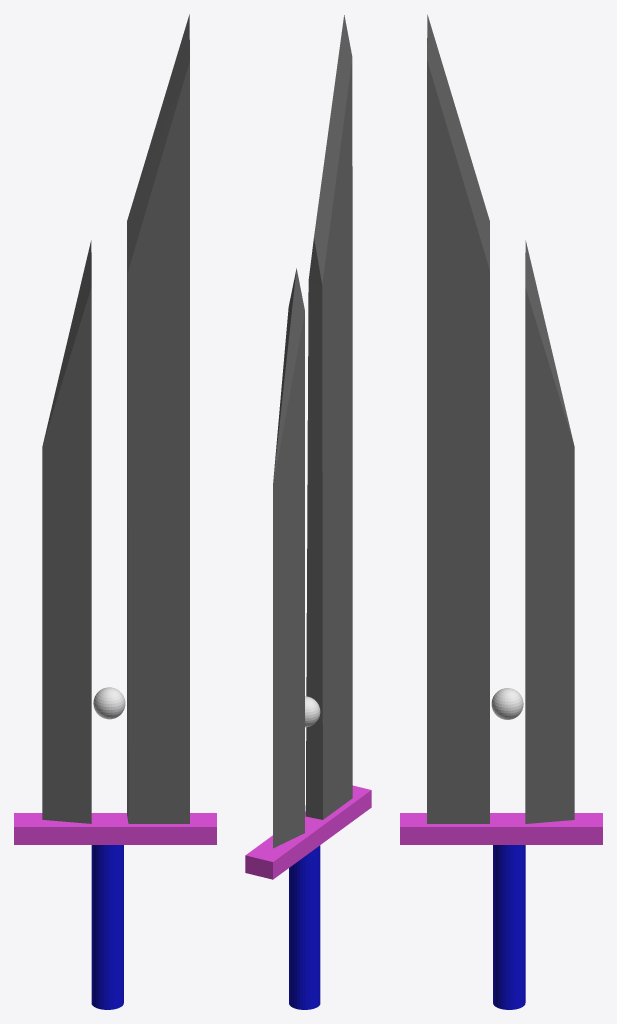
The model's file is Меч.fbx.
3 views of the same model, side by side, from view 1: azimuth 90°, elevation 25°; view 2: azimuth 150°, elevation 25°; view 3: azimuth 270°, elevation 25° (orthographic). The views are drawn at different scales.
Parts seen in each view (by area): view 1: Blade1.001, Blade1, Cylinder, Cube, Sphere; view 2: Blade1.001, Blade1, Cylinder, Cube, Sphere; view 3: Blade1.001, Blade1, Cylinder, Cube, Sphere.
Part boxes in pixels (<box>): Blade1.001: <box>127,14,189,823</box>; Blade1: <box>42,240,91,823</box>; Cylinder: <box>91,845,123,1009</box>; Cube: <box>14,813,216,844</box>; Sphere: <box>93,687,125,719</box>; Blade1.001: <box>305,15,352,819</box>; Blade1: <box>273,268,304,848</box>; Cylinder: <box>289,845,320,1009</box>; Cube: <box>245,785,371,879</box>; Sphere: <box>305,696,320,727</box>; Blade1.001: <box>427,14,489,823</box>; Blade1: <box>525,240,574,823</box>; Cylinder: <box>493,845,525,1009</box>; Cube: <box>400,813,602,844</box>; Sphere: <box>491,688,523,719</box>.
Bounding box in the file's own units: 16.62 × 545 × 101.
